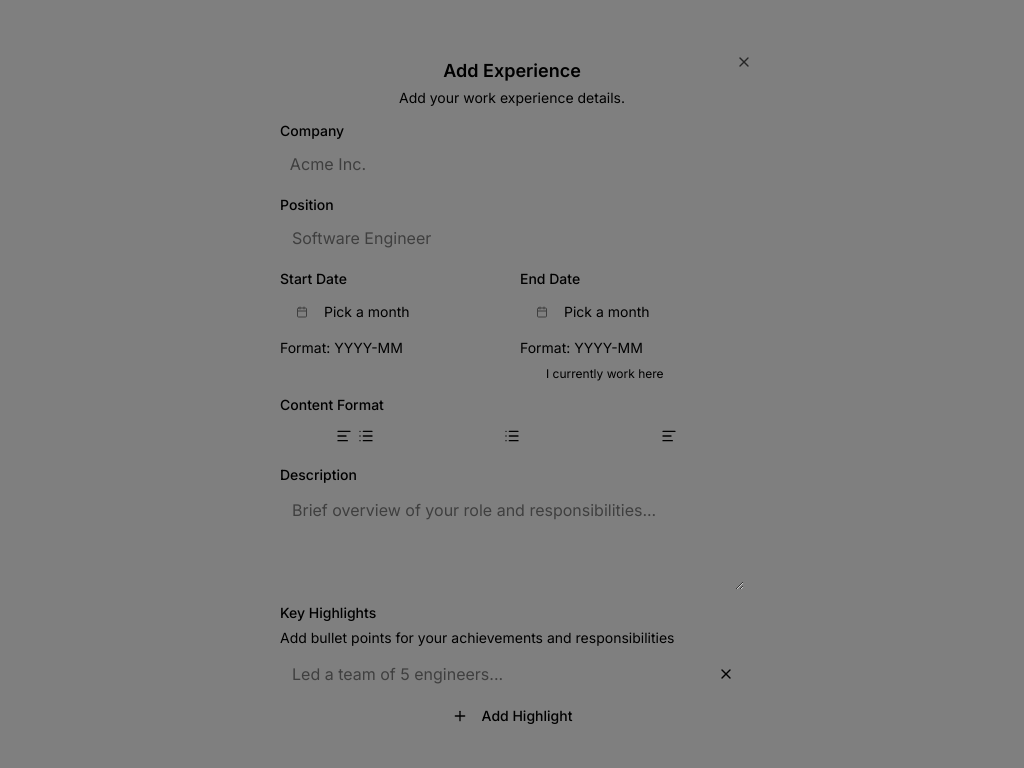
ExperienceFormDialog › Highlights Management › allows removing highlights
This screenshot has width=1024, height=768.
# Add two highlights
Click the button "Add Highlight".
click(512, 716)  # box [280,700,744,732]
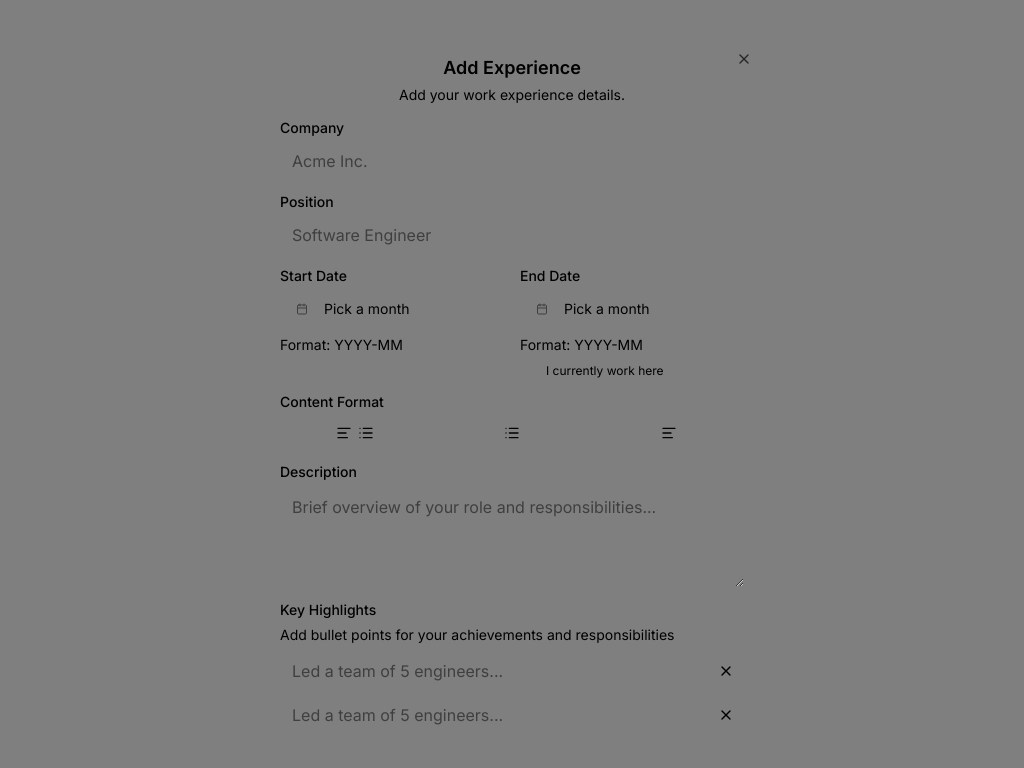
expect the number of fields with placeholder "Led a team of 5 engineers..." is 2: met, box [280,653,700,689]; [280,697,700,730]
Click the 7th button.
click(726, 671)  # box [708,653,744,689]
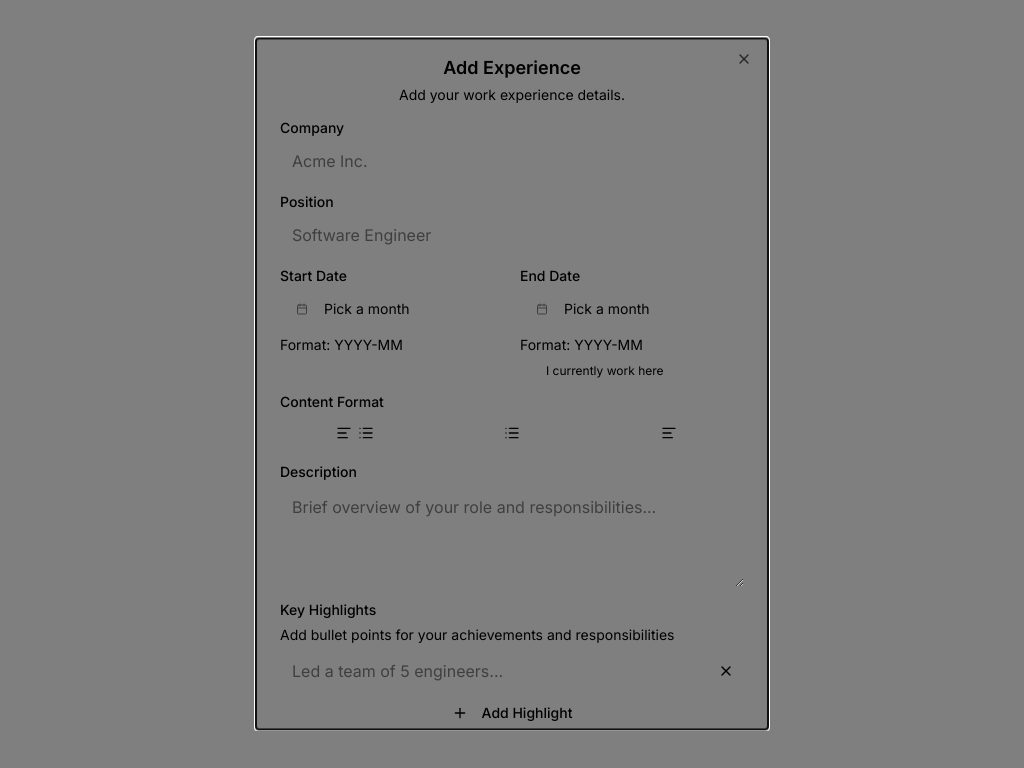
expect the number of fields with placeholder "Led a team of 5 engineers..." is 1: met, box [280,653,700,689]
